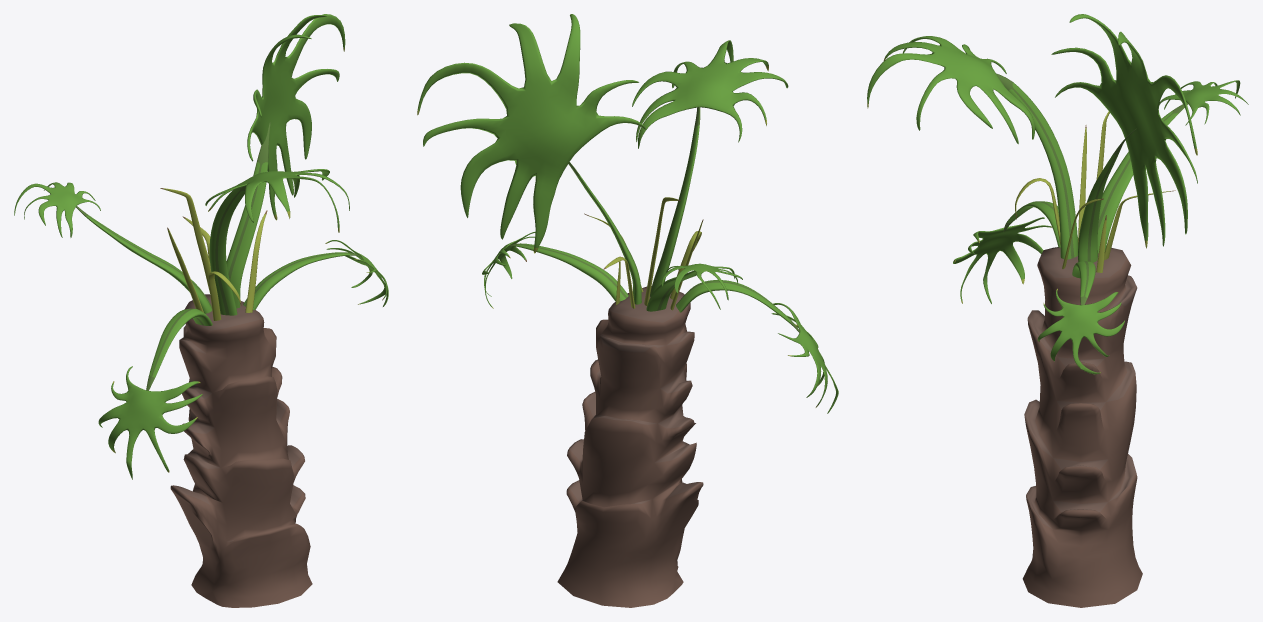
The model's file is another_type_of_tree_1.fbx.
3 renders of one model, left to right at view 1: azimuth 30°, elevation 25°; view 2: azimuth 150°, elevation 25°; view 3: azimuth 270°, elevation 25°, orthographic. The views are drawn at different scales.
Visible parts, largest first — view 1: Plane.018; view 2: Plane.018; view 3: Plane.018.
Boxes of the visible parts, bbox=[...] form: Plane.018: bbox=[14, 14, 388, 607]; Plane.018: bbox=[417, 14, 838, 607]; Plane.018: bbox=[867, 14, 1248, 607].
Bounding box in the file's own units: 698 × 1134 × 666.
